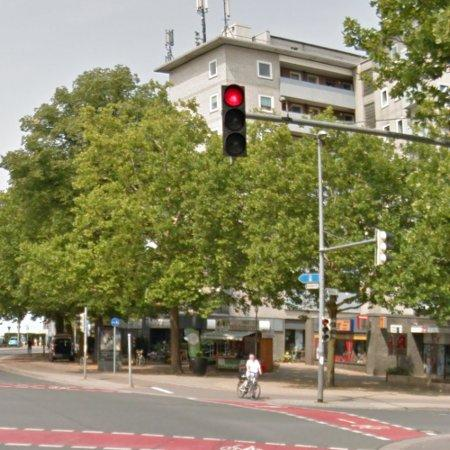traffic lights: (222, 86, 247, 157)
